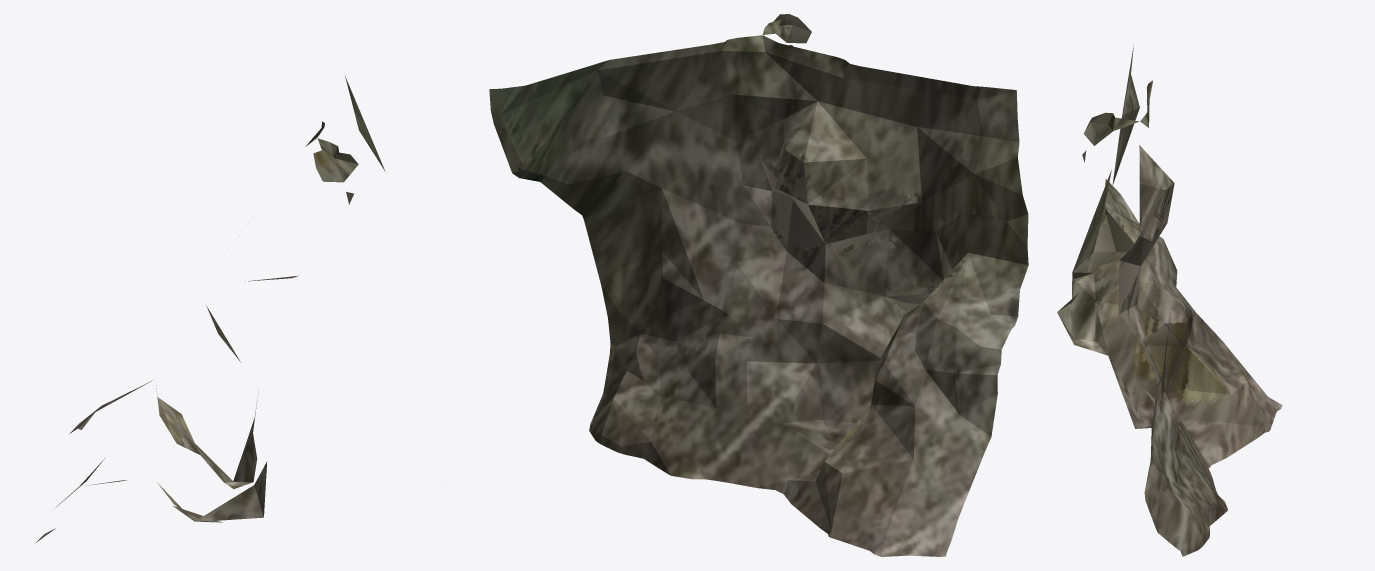
The picture shows the model from 3 angles, left to right: view 1: azimuth 30°, elevation 25°; view 2: azimuth 150°, elevation 25°; view 3: azimuth 270°, elevation 25°; orthographic projection. The views are drawn at different scales.
Bounding box in the file's own units: 2.95 × 2.95 × 2.19.
Materials: 3 (3 with a texture image).
